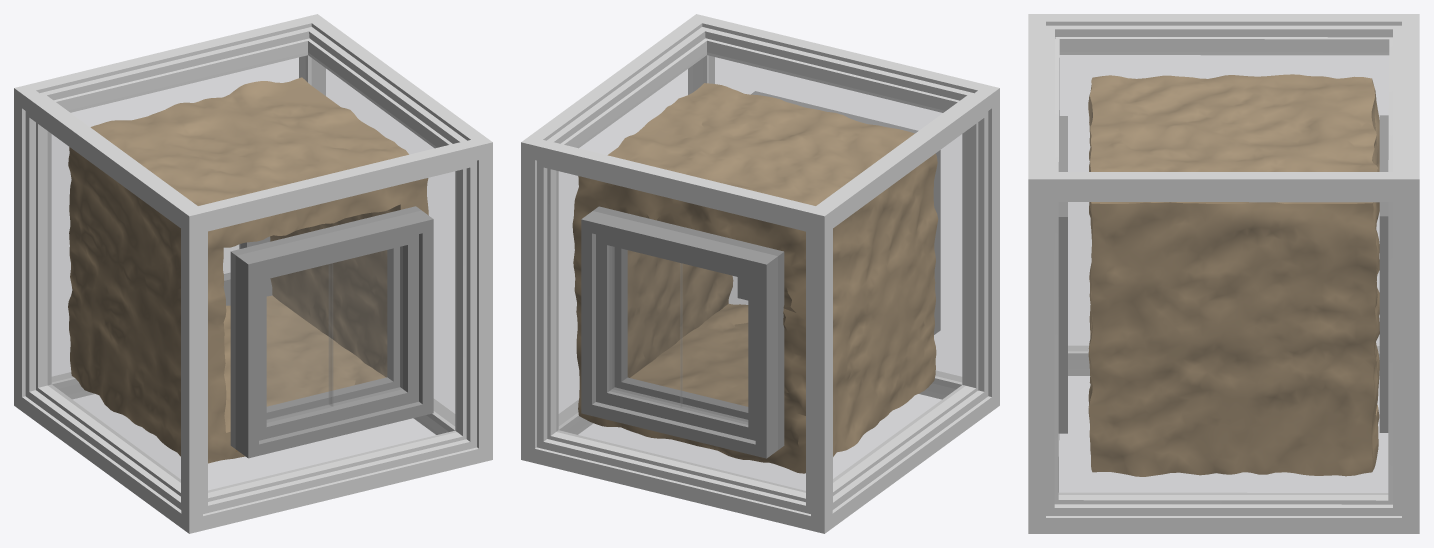
The model's file is Converyor_Belt_Staight.fbx.
The picture shows the model from 3 angles, left to right: view 1: azimuth 30°, elevation 25°; view 2: azimuth 150°, elevation 25°; view 3: azimuth 270°, elevation 25°; orthographic projection. The views are drawn at different scales.
Parts seen in each view (by area): view 1: pCube19, pCube26, pasted__pCube27, pCube24, pCube25, pCube21; view 2: pCube19, pCube26, pasted__pCube27, pCube20, pCube22, pCube23, pCube24; view 3: pCube19, pasted__pCube27, pCube26, pCube20, pCube24.
Part boxes in pixels (x1,y1,x2,y2): pCube19: (48,53,456,492); pCube26: (14,14,492,533); pasted__pCube27: (68,77,428,463); pCube24: (230,206,433,458); pCube25: (329,246,402,405); pCube21: (267,263,332,422); pCube19: (557,53,965,492); pCube26: (521,14,999,533); pasted__pCube27: (572,83,938,473); pCube20: (581,206,784,458); pCube22: (610,246,682,407); pCube23: (680,263,747,424); pCube24: (737,91,940,334); pCube19: (1059,52,1388,494); pasted__pCube27: (1088,74,1379,476); pCube26: (1028,14,1419,533); pCube20: (1379,115,1388,432); pCube24: (1058,116,1067,433).
Bounding box in the file's own units: 4.4 × 4.4 × 4.4.
